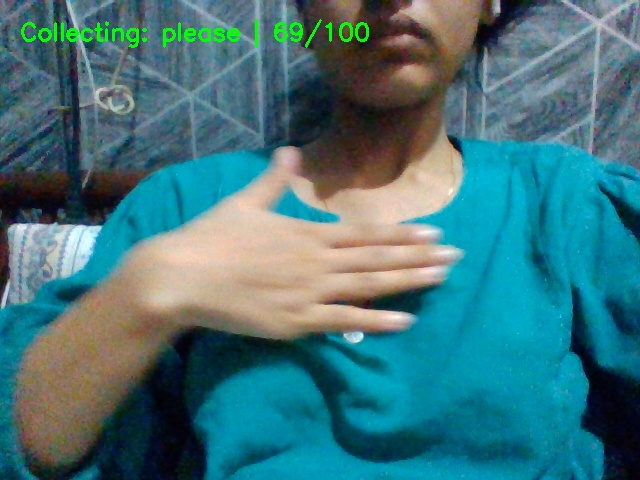please: (136, 132, 475, 388)
